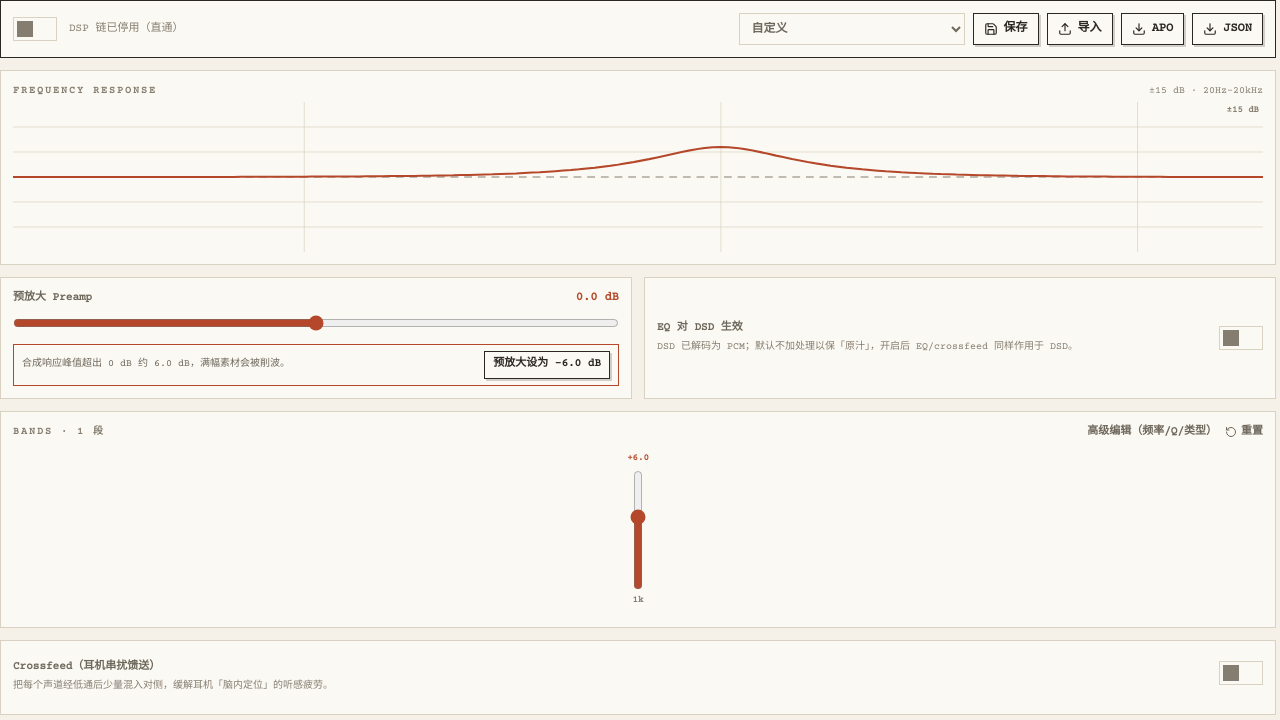
EQ 页削波提示（DSP-04） › 频段提升而预放大留在 0 dB 时提示，点按钮后应用建议值并消失
Expected: the message with test id "eq-clip-warning" shows "6.0 dB", [13,344,619,386]
Click the button "预放大设为 -6.0 dB" at point(547, 364), box [484,350,610,378]
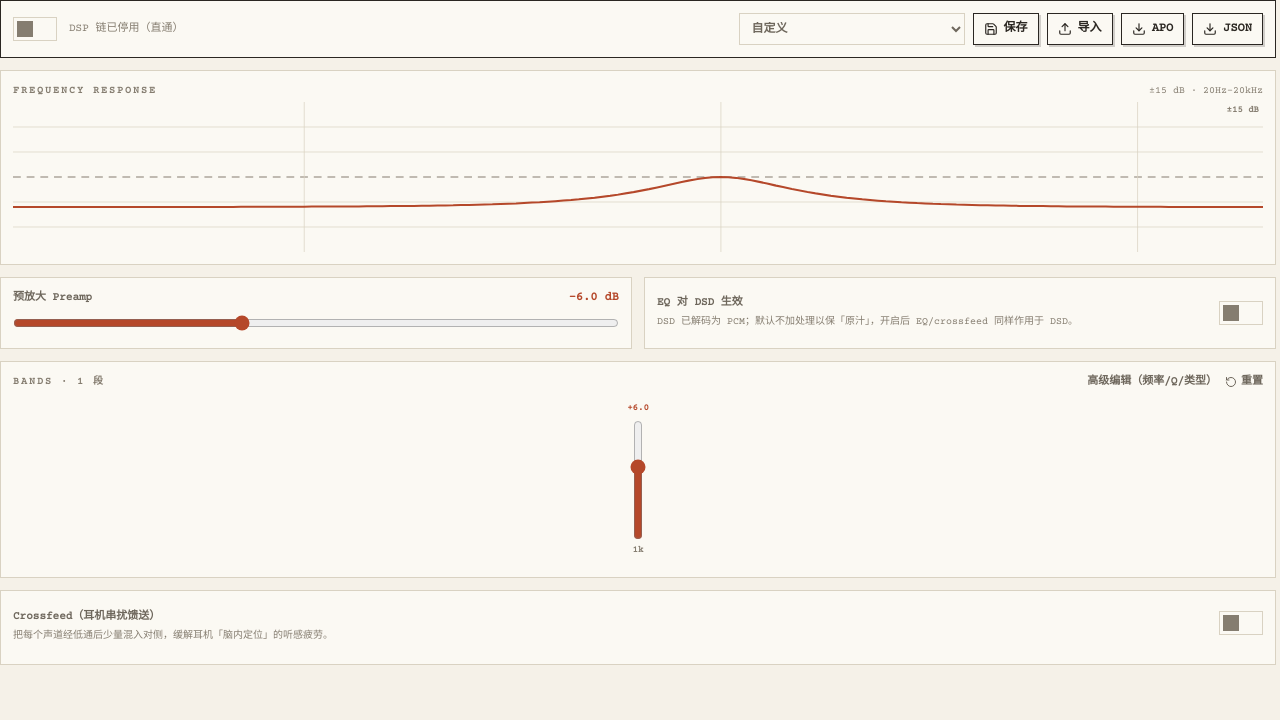
Now the message with test id "eq-clip-warning" is gone
